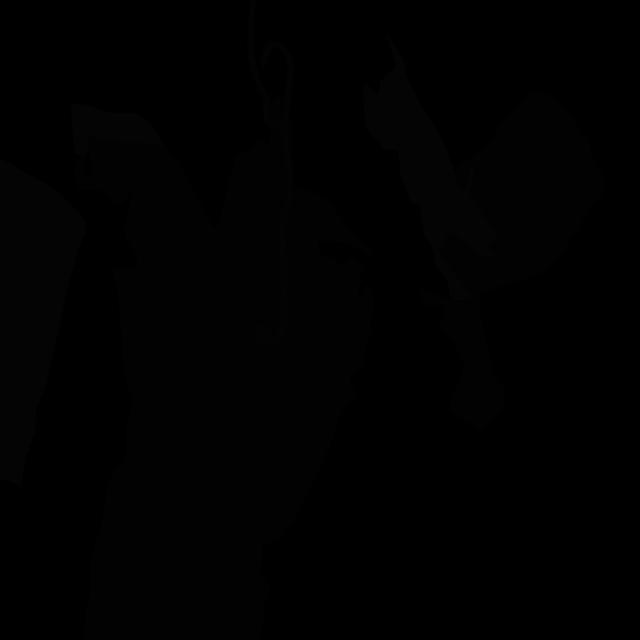cardboard: (124, 147, 374, 640), (80, 234, 228, 640), (440, 89, 608, 313), (420, 289, 506, 435), (74, 137, 164, 208), (289, 183, 374, 257), (240, 127, 287, 208), (269, 96, 284, 124), (288, 116, 292, 153)
metal: (247, 0, 294, 348)
soft_plastic: (363, 32, 499, 301), (0, 158, 87, 486), (70, 103, 164, 157)
